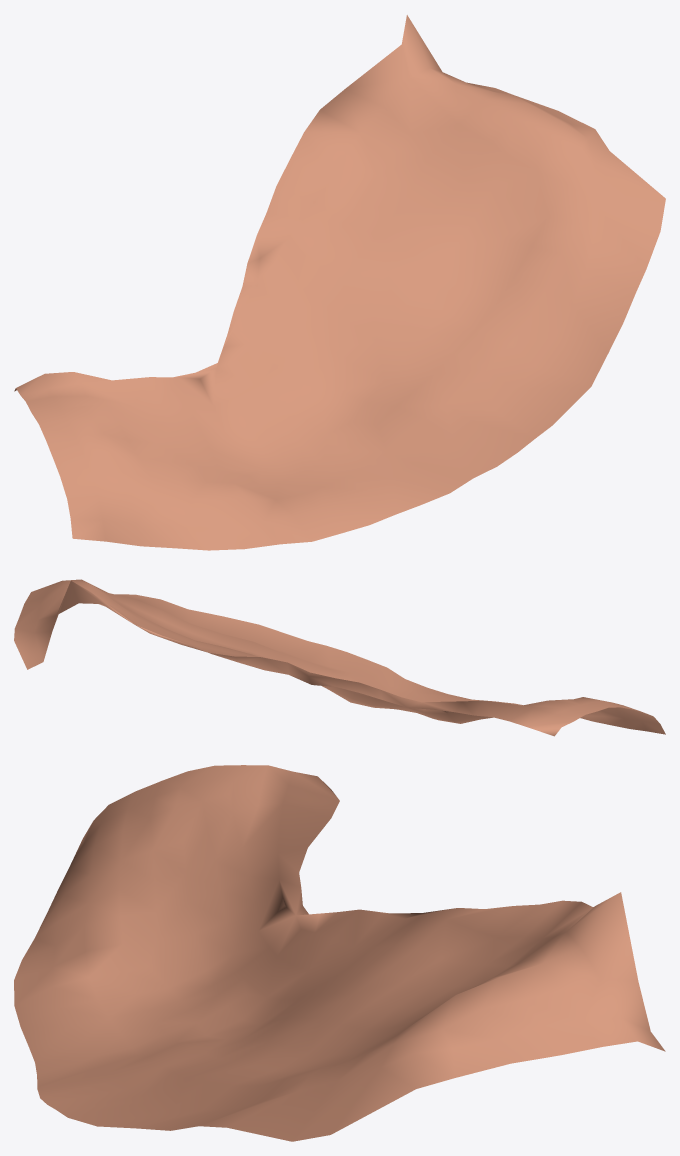
File: mesocolon.glb
3 views of the same model, one above another, from view 1: azimuth 30°, elevation 25°; view 2: azimuth 150°, elevation 25°; view 3: azimuth 270°, elevation 25° (orthographic). The views are drawn at different scales.
Parts seen in each view (by area): view 1: Mesocolon; view 2: Mesocolon; view 3: Mesocolon.
Boxes of the visible parts, left/top/right/bottom form: Mesocolon: left=14, top=15, right=665, bottom=550; Mesocolon: left=14, top=579, right=665, bottom=736; Mesocolon: left=14, top=765, right=665, bottom=1141.
Bounding box in the file's own units: 0.1332 × 0.0484 × 0.0888.
